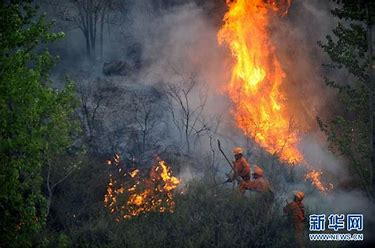fire: (221, 1, 314, 163), (98, 149, 185, 214)
